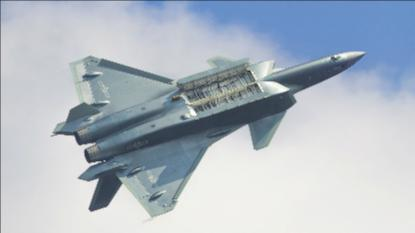F4: (49, 51, 367, 217)
